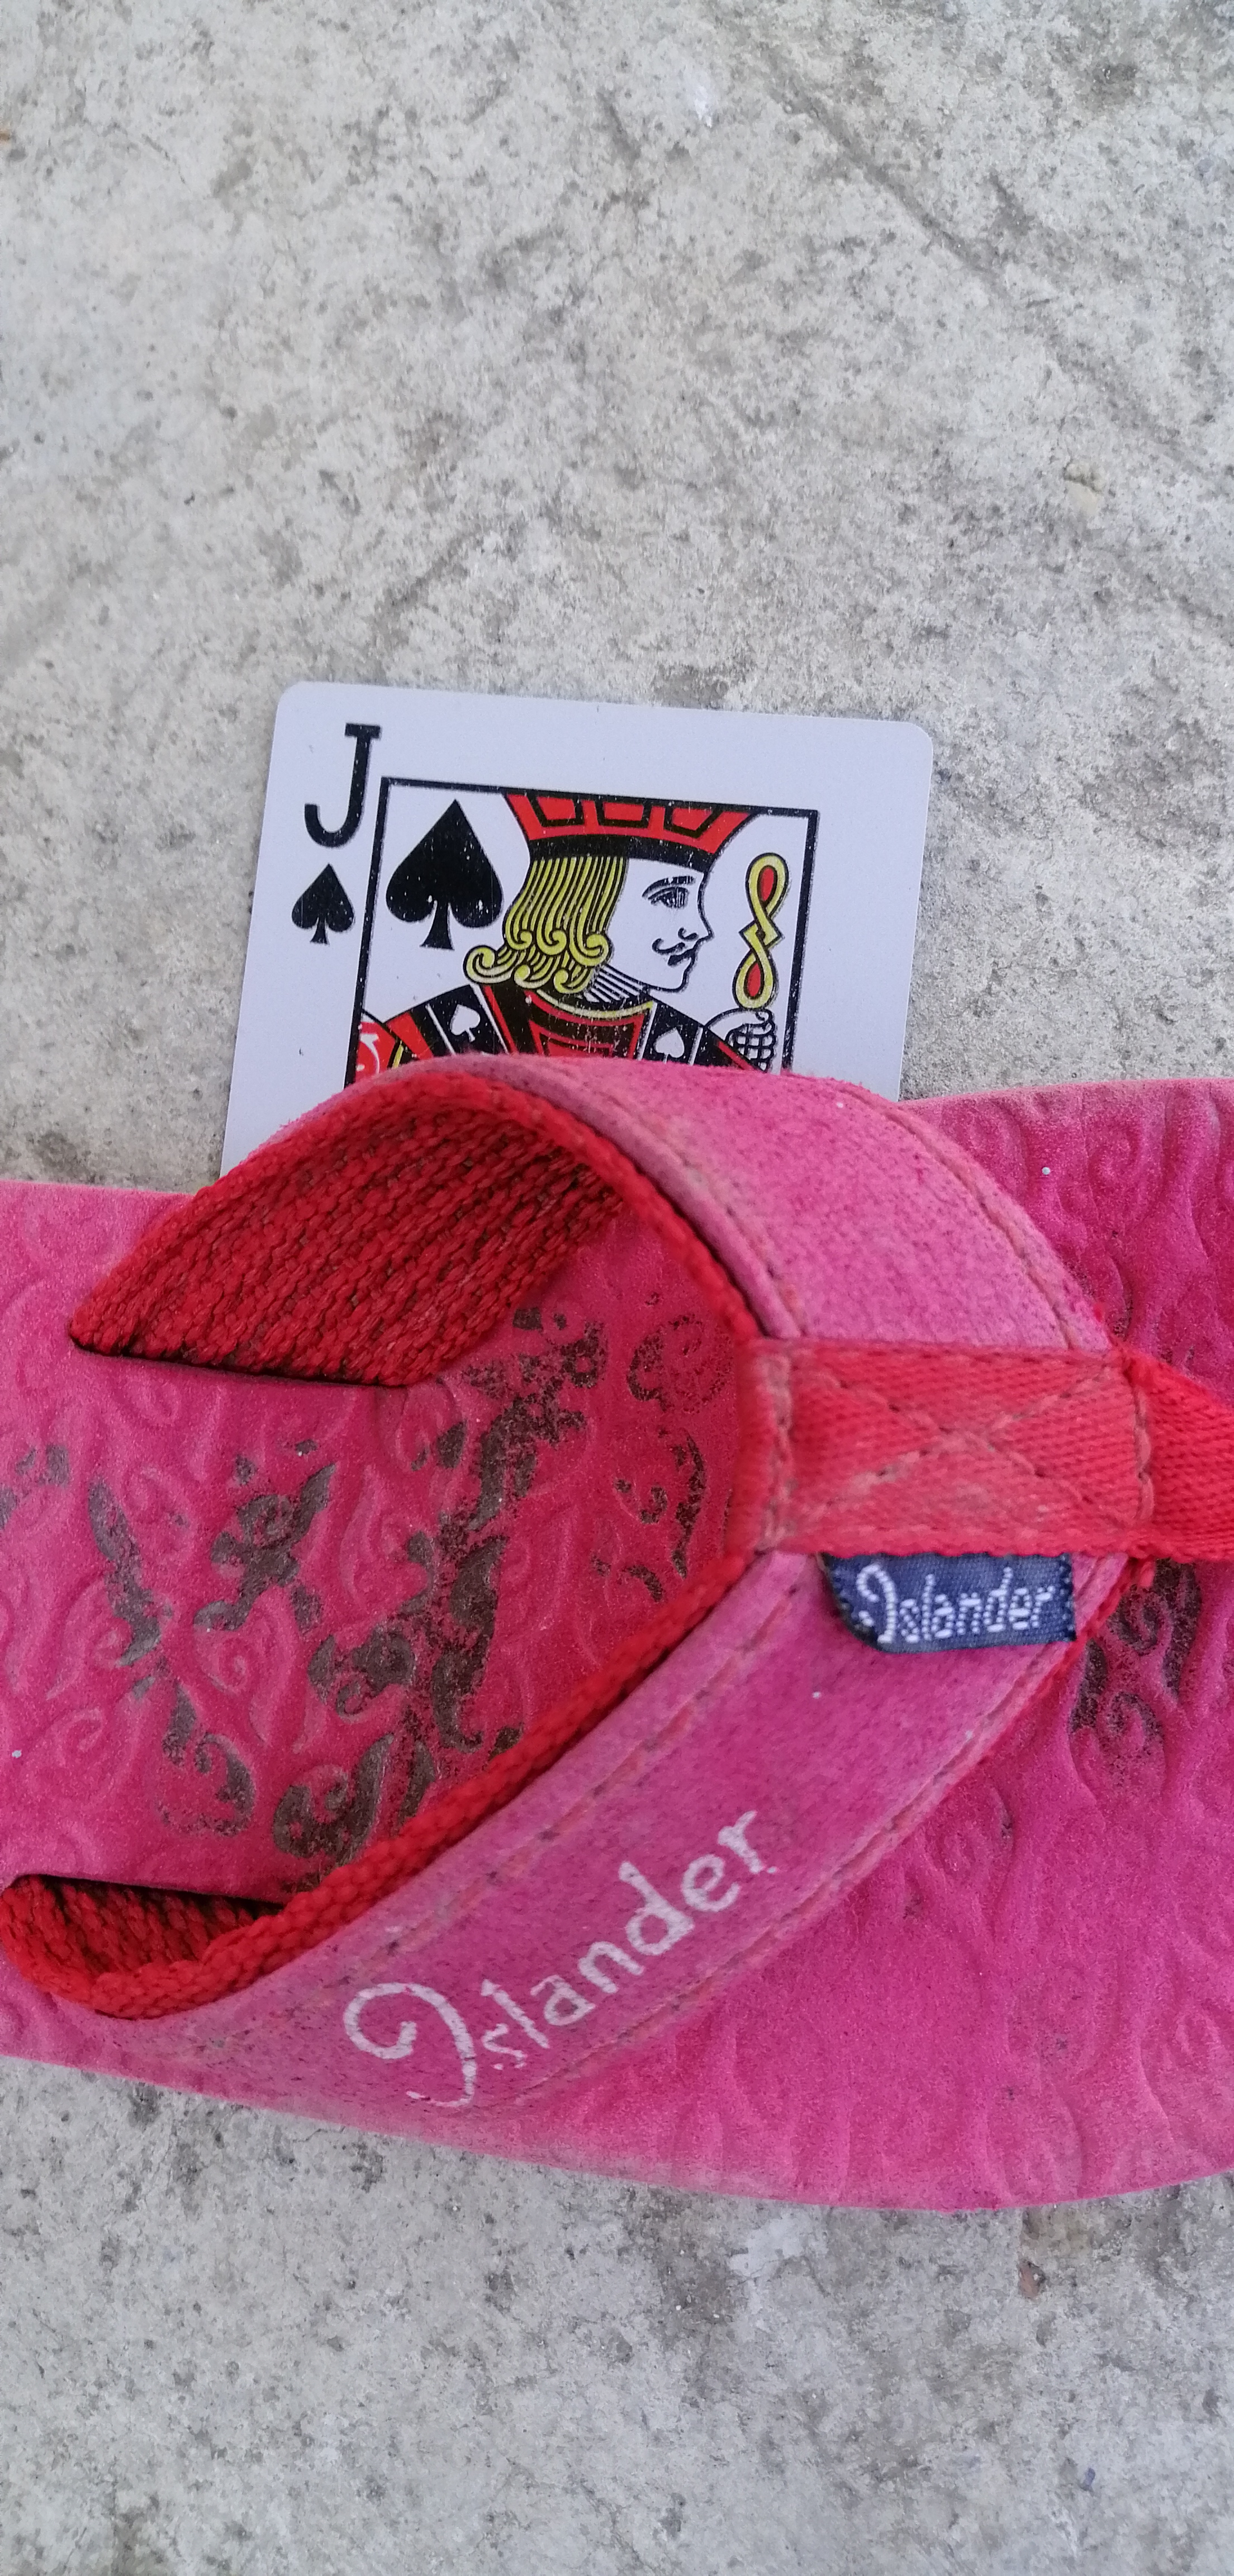jack: (210, 654, 920, 1204)
